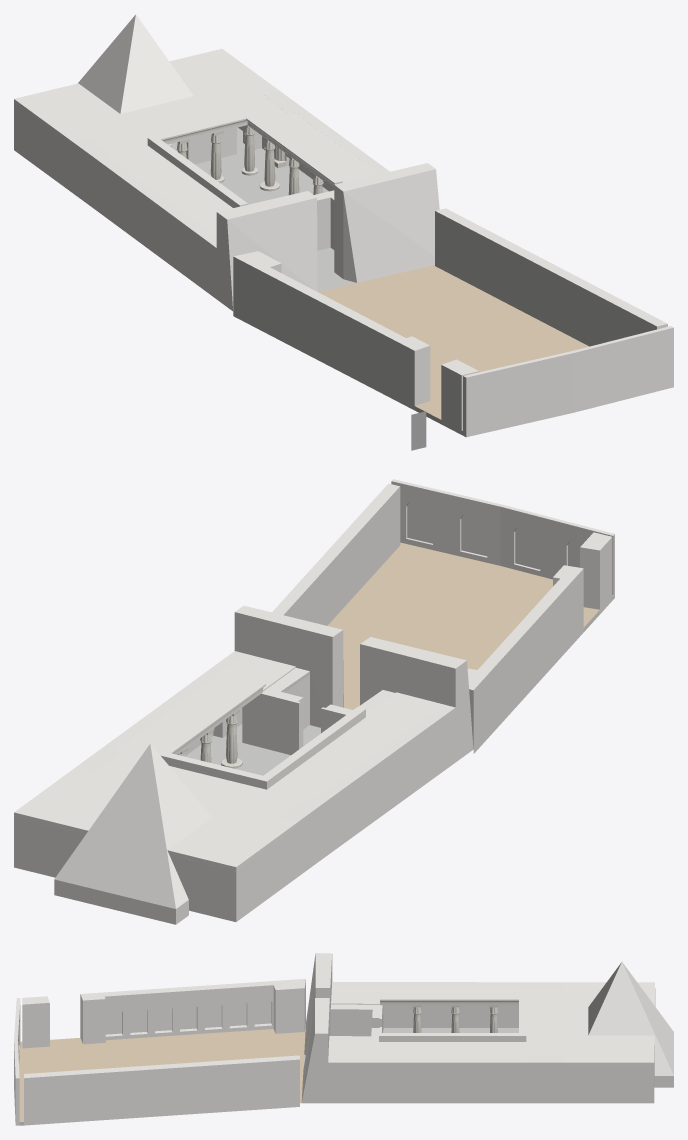
File: Meryneith.glb
The picture shows the model from 3 angles, top to bottom: view 1: azimuth 30°, elevation 25°; view 2: azimuth 150°, elevation 25°; view 3: azimuth 270°, elevation 25°; orthographic projection. The views are drawn at different scales.
Visible parts, largest first — view 1: Mesh31 Model, Mesh1 Roof_1_1 Model, Mesh2 West_Roof1 Model; view 2: Mesh31 Model, Mesh1 Roof_1_1 Model, Mesh2 West_Roof1 Model; view 3: Mesh31 Model, Mesh1 Roof_1_1 Model, Mesh2 West_Roof1 Model.
Part boxes in pixels (box(x1,y1,x2,y2)): Mesh31 Model: box(14, 14, 673, 437); Mesh1 Roof_1_1 Model: box(89, 95, 378, 222); Mesh2 West_Roof1 Model: box(14, 48, 279, 145); Mesh31 Model: box(14, 479, 614, 924); Mesh1 Roof_1_1 Model: box(94, 678, 409, 816); Mesh2 West_Roof1 Model: box(14, 767, 298, 871); Mesh31 Model: box(14, 953, 673, 1125); Mesh1 Roof_1_1 Model: box(378, 986, 562, 1058); Mesh2 West_Roof1 Model: box(563, 982, 654, 1065).
Size of the model in its own units: 12.19 by 5.83 by 33.52.
